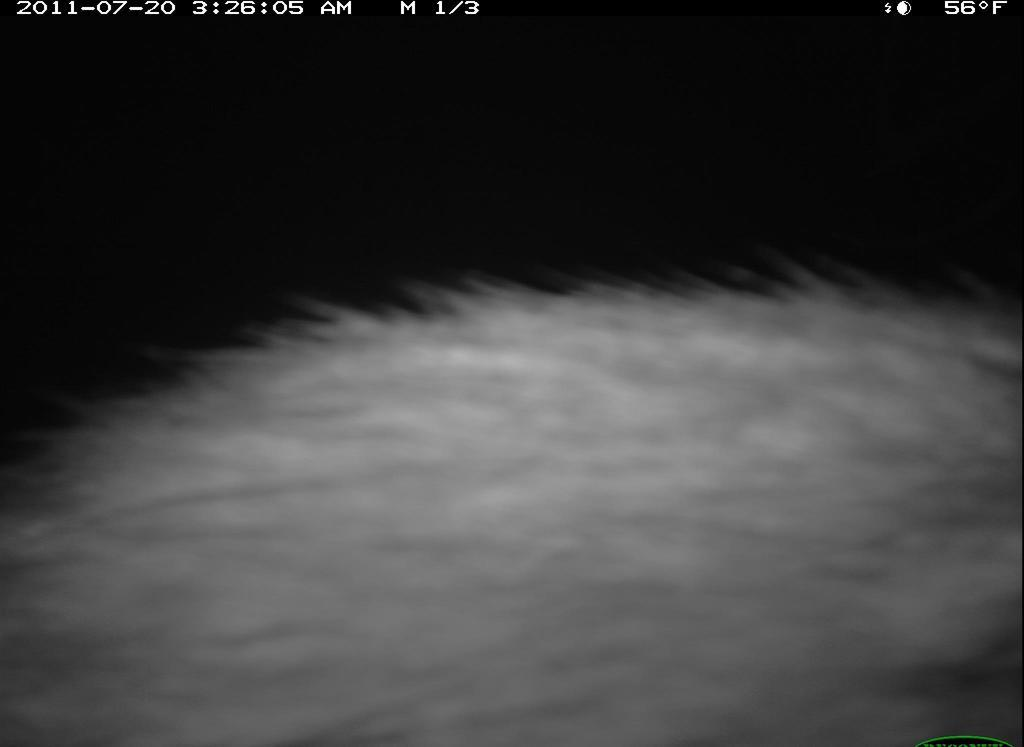raccoon: (4, 240, 1022, 747)
